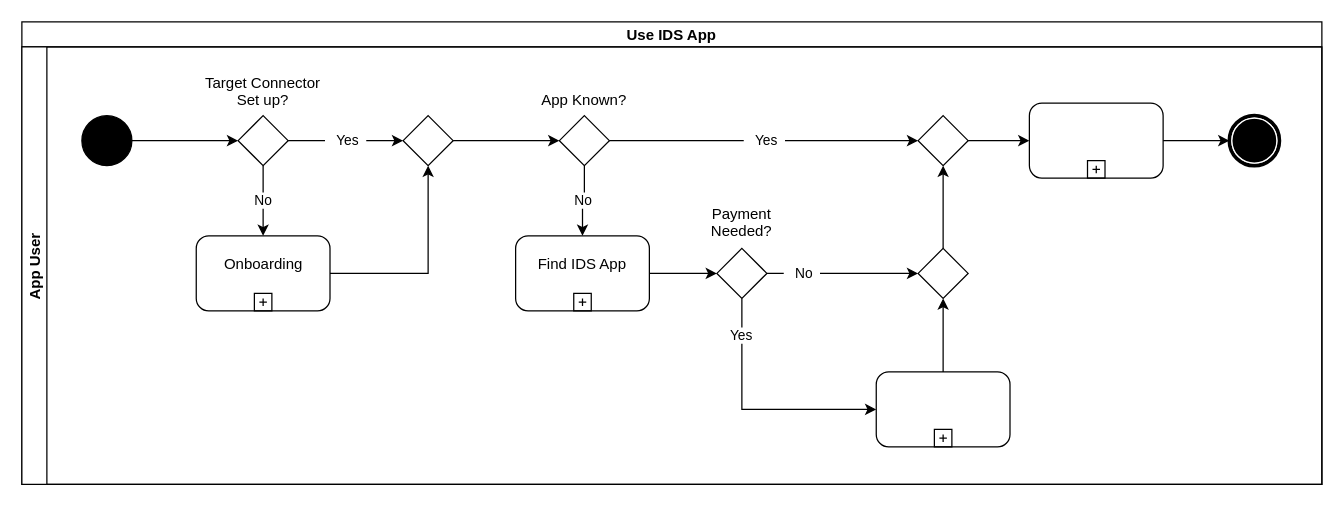
This 1344x506 diagram has some shape labels left out. The box of each missing label's shape, as (x1, y1, x2, y2) in pixels:
IDS App Payment: (875, 371, 1010, 447)
Retrieve IDS App: (1028, 102, 1163, 178)
